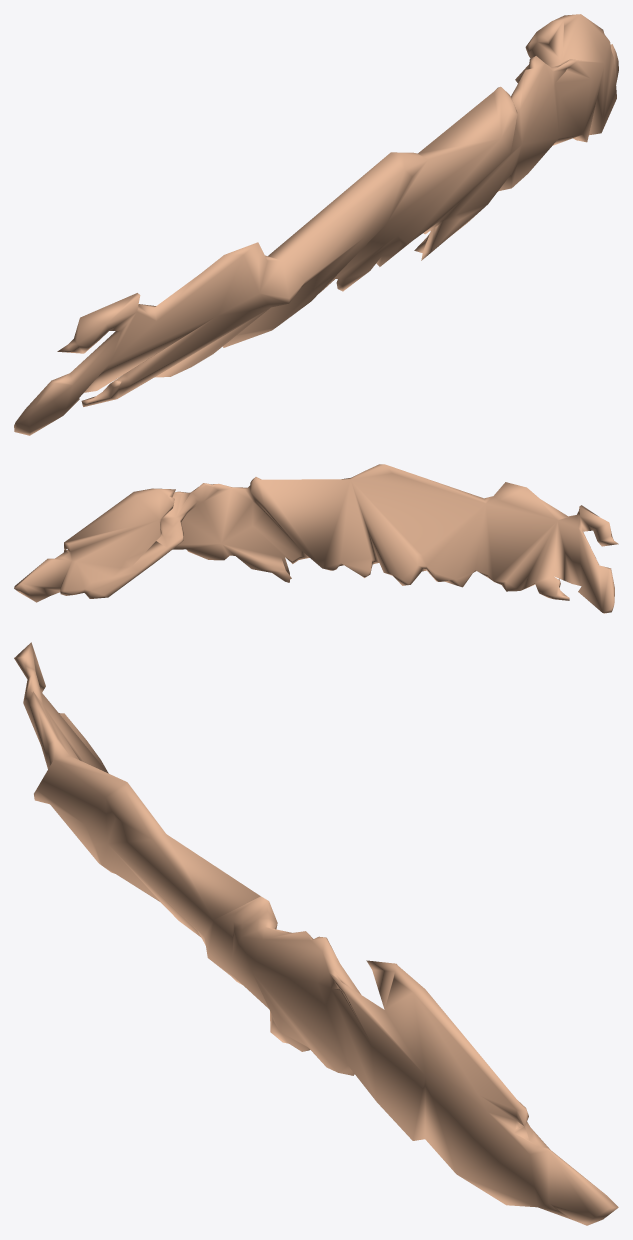
Rendered from hairs-of-eyebrow-l.glb.
3 renders of one model, top to bottom at view 1: azimuth 30°, elevation 25°; view 2: azimuth 150°, elevation 25°; view 3: azimuth 270°, elevation 25°, orthographic. The views are drawn at different scales.
Parts seen in each view (by area): view 1: Hairs of eyebrow.l; view 2: Hairs of eyebrow.l; view 3: Hairs of eyebrow.l.
Part boxes in pixels (x1,y1,x2,y2): Hairs of eyebrow.l: [14, 14, 618, 435]; Hairs of eyebrow.l: [14, 464, 618, 613]; Hairs of eyebrow.l: [14, 642, 618, 1225].
Bounding box in the file's own units: 0.0408 × 0.00919 × 0.023.
